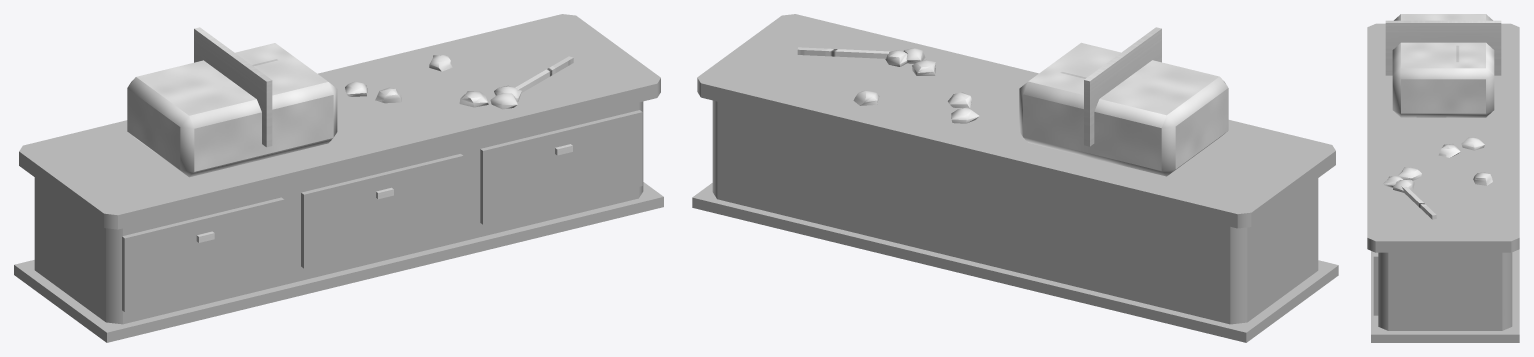
Rendered from bench_stonecutter.obj.
3 views of the same model, side by side, from view 1: azimuth 30°, elevation 25°; view 2: azimuth 150°, elevation 25°; view 3: azimuth 270°, elevation 25° (orthographic). The views are drawn at different scales.
Parts seen in each view (by area): view 1: worktop, cabinet, stone_block, left_door, right_door, middle_door, plinth, cutting_blade, tool_handle; view 2: cabinet, worktop, stone_block, plinth, cutting_blade, tool_handle; view 3: worktop, cabinet, stone_block, cutting_blade, plinth, right_door, tool_handle, source_part_180, source_part_105, source_part_130, source_part_155, source_part_080 (+1 smaller).
Boxes of the visible parts, bbox=[...] form: worktop: bbox=[19, 14, 660, 229]; cabinet: bbox=[34, 101, 643, 324]; stone_block: bbox=[127, 43, 337, 177]; left_door: bbox=[122, 197, 284, 312]; right_door: bbox=[480, 110, 642, 224]; middle_door: bbox=[301, 154, 463, 268]; plinth: bbox=[14, 182, 663, 342]; cutting_blade: bbox=[194, 27, 272, 147]; tool_handle: bbox=[515, 56, 573, 92]; cabinet: bbox=[712, 100, 1318, 324]; worktop: bbox=[697, 14, 1335, 228]; stone_block: bbox=[1019, 42, 1228, 176]; plinth: bbox=[692, 183, 1338, 342]; cutting_blade: bbox=[1084, 27, 1161, 146]; tool_handle: bbox=[797, 47, 890, 58]; worktop: bbox=[1367, 23, 1519, 252]; cabinet: bbox=[1378, 252, 1512, 330]; stone_block: bbox=[1392, 14, 1494, 117]; cutting_blade: bbox=[1385, 20, 1501, 75]; plinth: bbox=[1371, 249, 1519, 342]; right_door: bbox=[1373, 252, 1378, 315]; tool_handle: bbox=[1397, 182, 1436, 219]; source_part_180: bbox=[1398, 167, 1421, 180]; source_part_105: bbox=[1461, 137, 1484, 150]; source_part_130: bbox=[1438, 144, 1460, 157]; source_part_155: bbox=[1473, 172, 1492, 185]; source_part_080: bbox=[1393, 179, 1414, 192].
Size of the model in its own units: 2.84 by 1.04 by 0.84.
